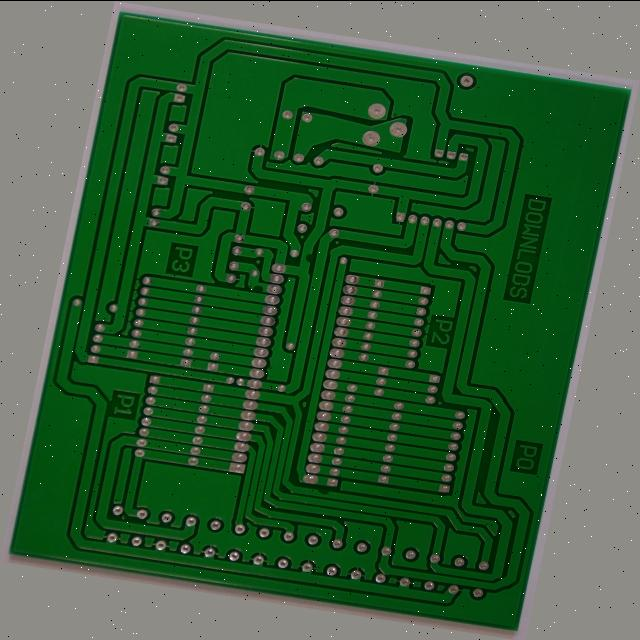mouse_bite: (282, 244, 299, 261), (355, 503, 376, 516), (230, 288, 248, 300)
